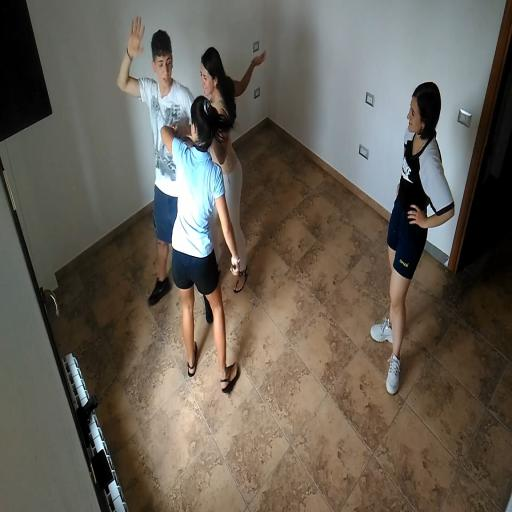violencia: (113, 0, 240, 419), (111, 0, 268, 181)
